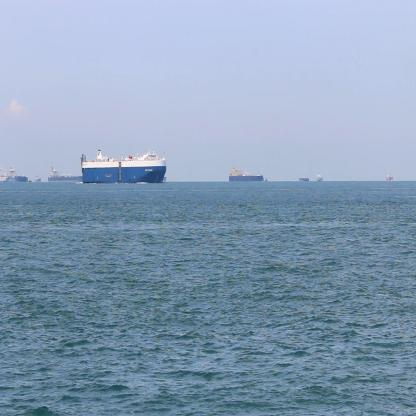Container Ship: (80, 152, 167, 184), (227, 164, 264, 183), (6, 164, 29, 188), (47, 167, 83, 182), (0, 168, 10, 185), (314, 171, 325, 185), (157, 174, 169, 186), (385, 170, 395, 184), (35, 172, 43, 186), (298, 176, 310, 184), (28, 175, 34, 187), (262, 177, 270, 184)
